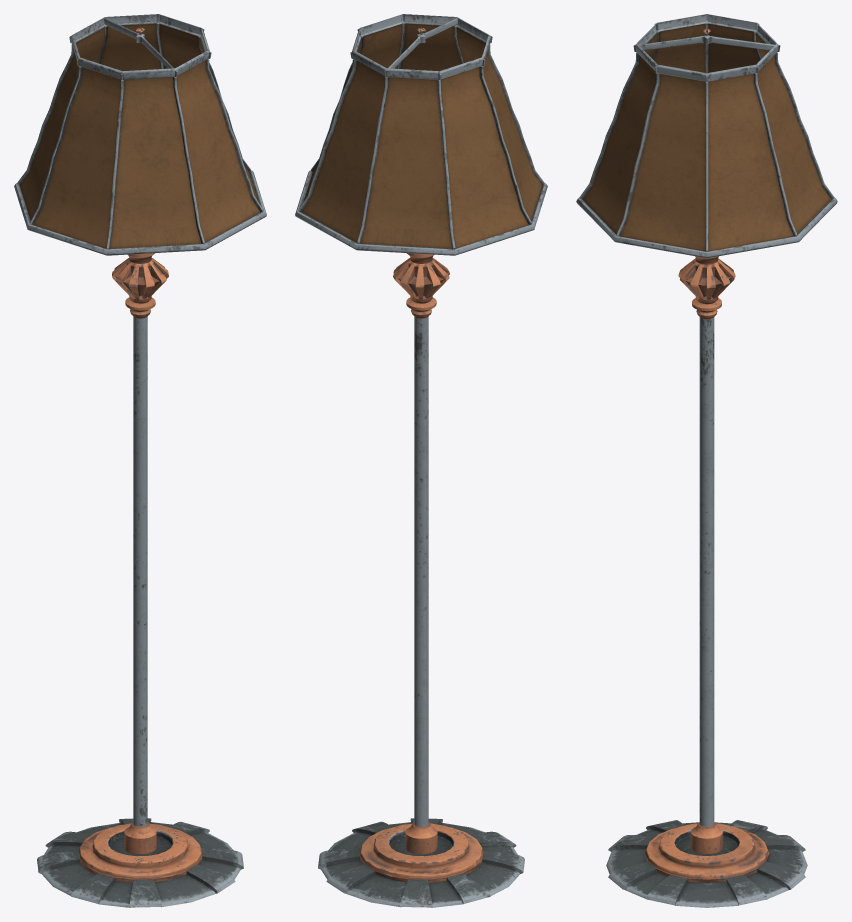
The model's file is lamp.glb.
The picture shows the model from 3 angles, left to right: view 1: azimuth 30°, elevation 25°; view 2: azimuth 150°, elevation 25°; view 3: azimuth 270°, elevation 25°; orthographic projection.
Parts seen in each view (by area): view 1: pSphere4; view 2: pSphere4; view 3: pSphere4.
Boxes of the visible parts, box(x1,y1,x2,y2) form: pSphere4: box(14, 14, 266, 907); pSphere4: box(295, 14, 547, 907); pSphere4: box(576, 14, 837, 907).
Size of the model in its own units: 55.8 by 197 by 55.81.
2 materials, 2 textured.
